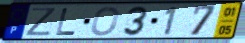1: (163, 6, 179, 36)
3: (123, 5, 149, 37)
7: (190, 4, 219, 37)
L: (54, 7, 78, 37)
O: (89, 6, 121, 37)
Z: (23, 7, 58, 37)
